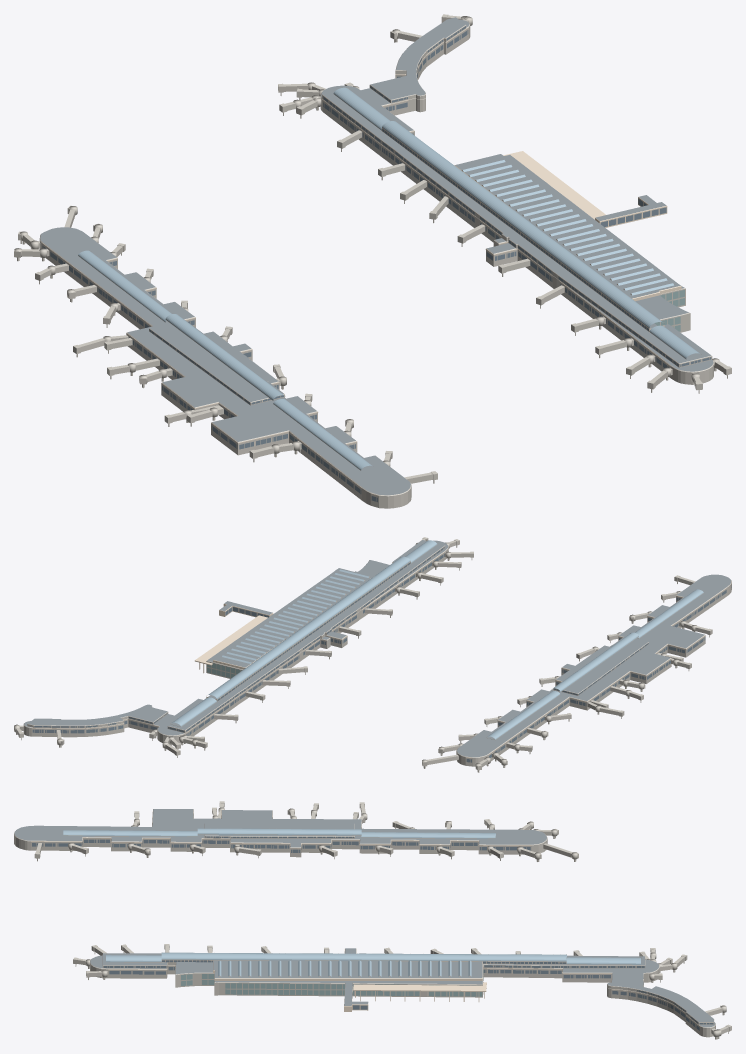
File: chi-ohare-terminal-1.detail.glb
3 views of the same model, one above another, from view 1: azimuth 30°, elevation 25°; view 2: azimuth 150°, elevation 25°; view 3: azimuth 270°, elevation 25° (orthographic). The views are drawn at different scales.
Visible parts, largest first — view 1: O'Hare Terminal 1; view 2: O'Hare Terminal 1; view 3: O'Hare Terminal 1.
Part boxes in pixels (box(x1,y1,x2,y2)): O'Hare Terminal 1: box(14, 14, 731, 508); O'Hare Terminal 1: box(14, 537, 731, 772); O'Hare Terminal 1: box(14, 801, 731, 1039).
Size of the model in its own units: 501 by 19.2 by 658.
